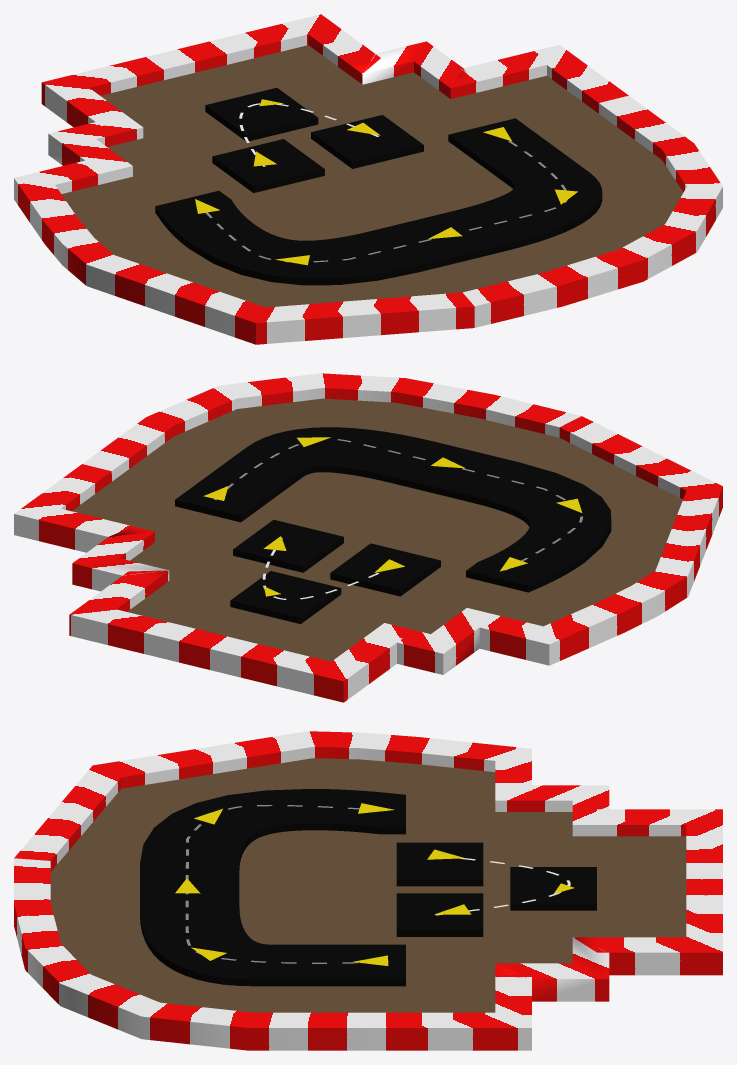
The model's file is theh.FBX.
The picture shows the model from 3 angles, top to bottom: view 1: azimuth 30°, elevation 25°; view 2: azimuth 150°, elevation 25°; view 3: azimuth 270°, elevation 25°; orthographic projection. The views are drawn at different scales.
Parts seen in each view (by area): view 1: tha2_floor, tha2_coll, tha2; view 2: tha2_floor, tha2_coll, tha2; view 3: tha2_floor, tha2_coll, tha2, Line0.
Part boxes in pixels (left/top/right/bottom): tha2_floor: left=61, top=45, right=683, bottom=307; tha2_coll: left=14, top=14, right=722, bottom=344; tha2: left=155, top=87, right=602, bottom=285; tha2_floor: left=72, top=398, right=682, bottom=661; tha2_coll: left=14, top=373, right=722, bottom=702; tha2: left=175, top=427, right=611, bottom=623; tha2_floor: left=50, top=758, right=686, bottom=1012; tha2_coll: left=14, top=731, right=722, bottom=1050; tha2: left=140, top=789, right=596, bottom=986; Line0: left=185, top=805, right=386, bottom=963.
Size of the model in its own units: 922 by 32.81 by 930.
